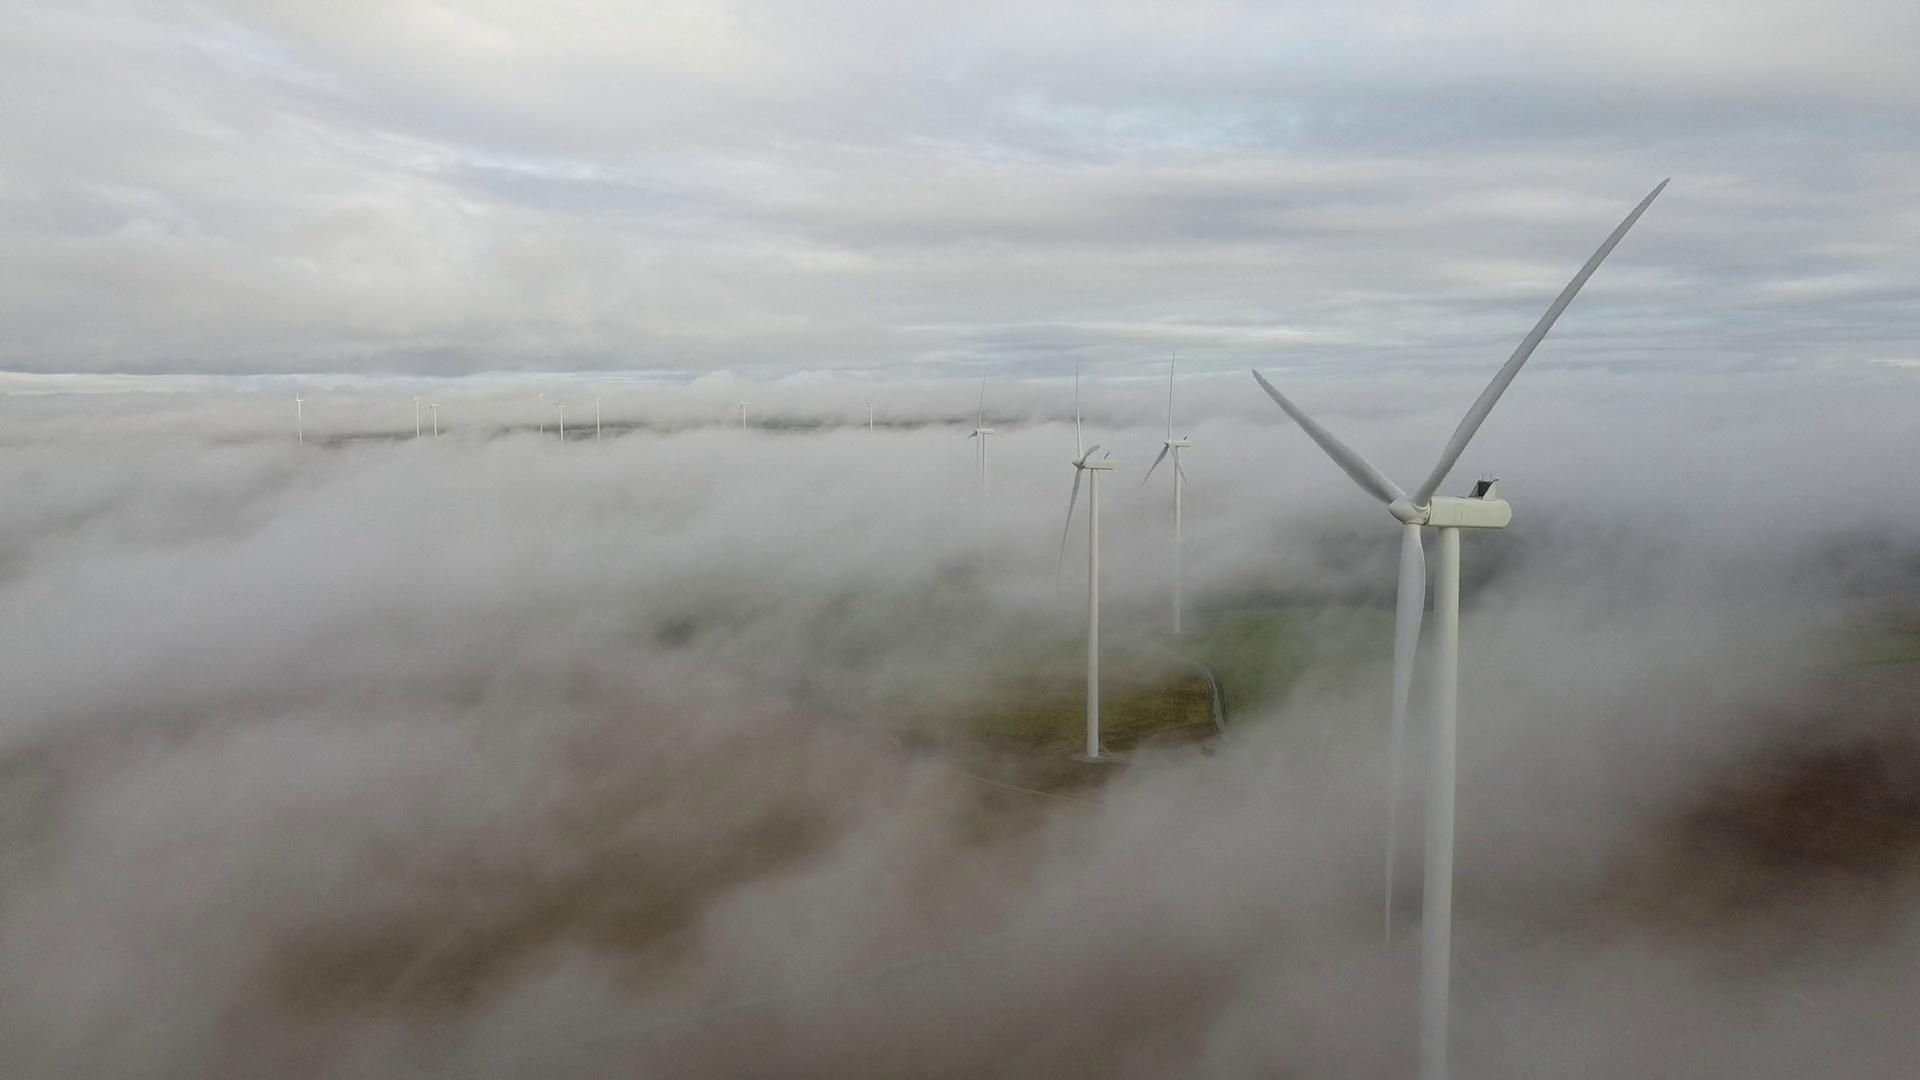turbine: (1258, 105, 1739, 1080), (1063, 326, 1133, 773), (1145, 356, 1224, 644), (971, 372, 1011, 526), (712, 382, 781, 447), (862, 376, 910, 455), (400, 384, 440, 454), (587, 389, 628, 456), (287, 393, 327, 458), (550, 389, 588, 452), (527, 384, 559, 451), (430, 388, 454, 451)
